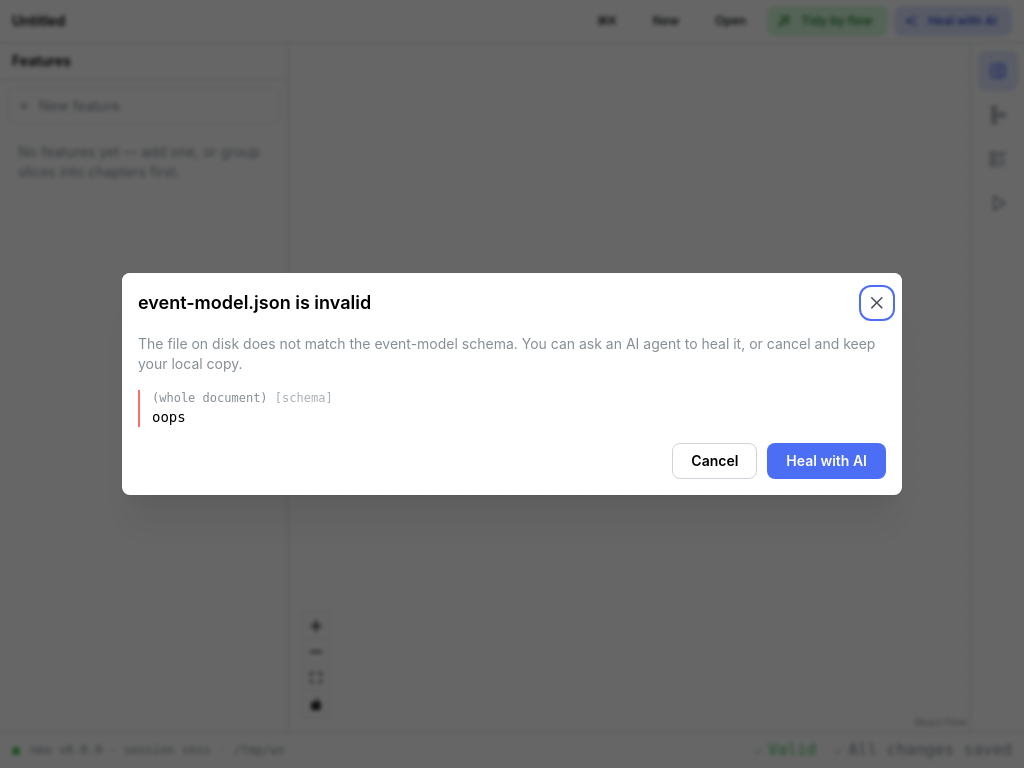
Test: App — event-model load + heal flow › Cancel hides the modal without further RPC traffic
Click the button "Cancel": (715, 461) [672,443,757,479]
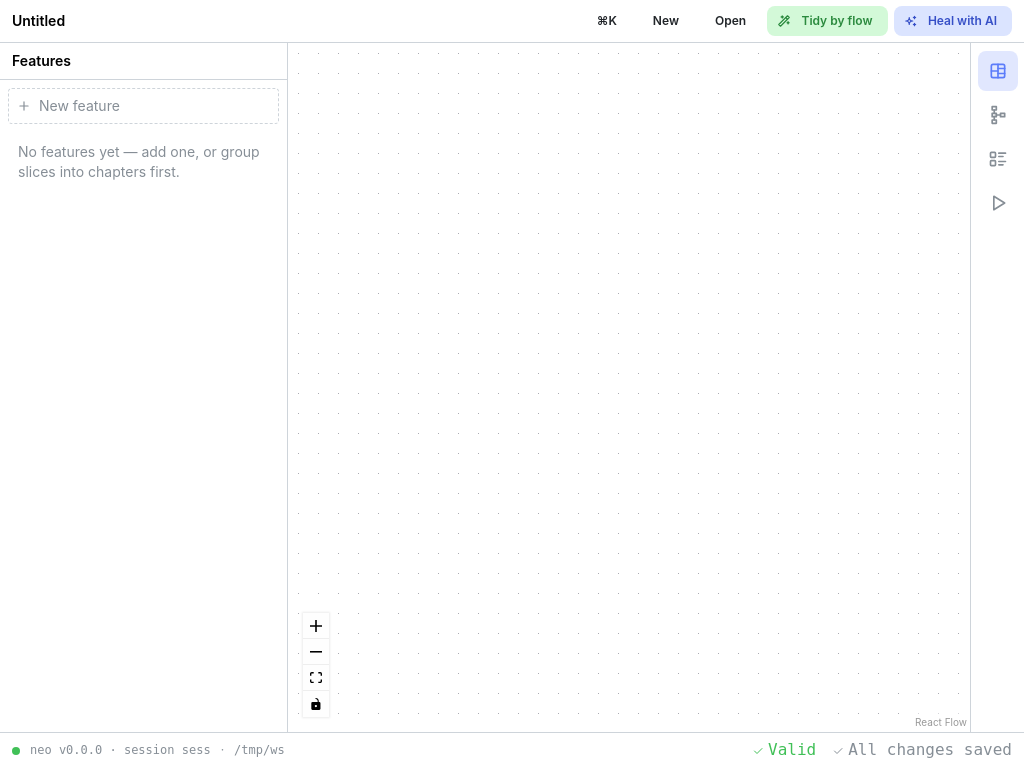
Result: the dialog is gone
